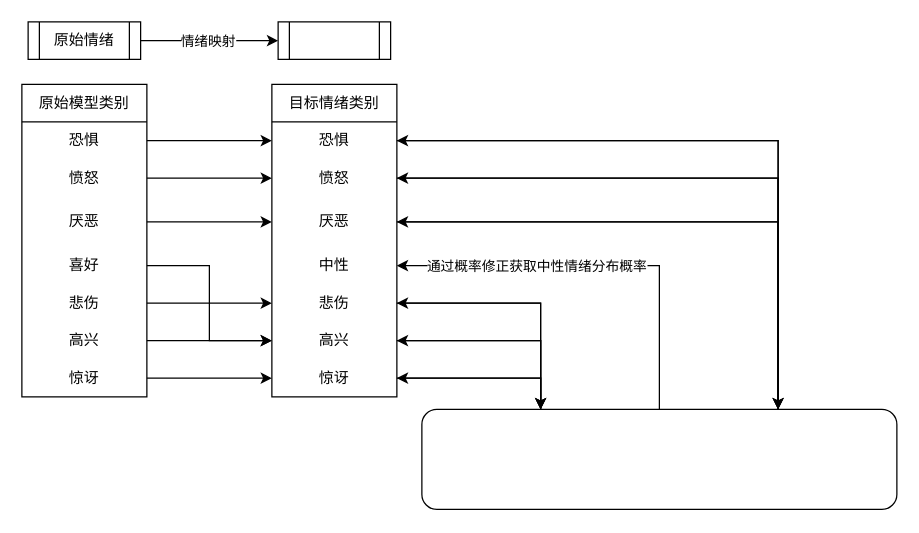
Image size: 919x533. Some labels were removed from this diagram. Each missing label, with the centre of its shape:
"目标情绪" goes at (334,40).
"计算除中性情绪移位的6中情绪分布概率极差值 diff 极差值可反映是否为中性情绪，中性情绪随极差增大而减小 确定中性情绪概率值 按占比计算其余六种情绪分别概率值" goes at (659,458).
